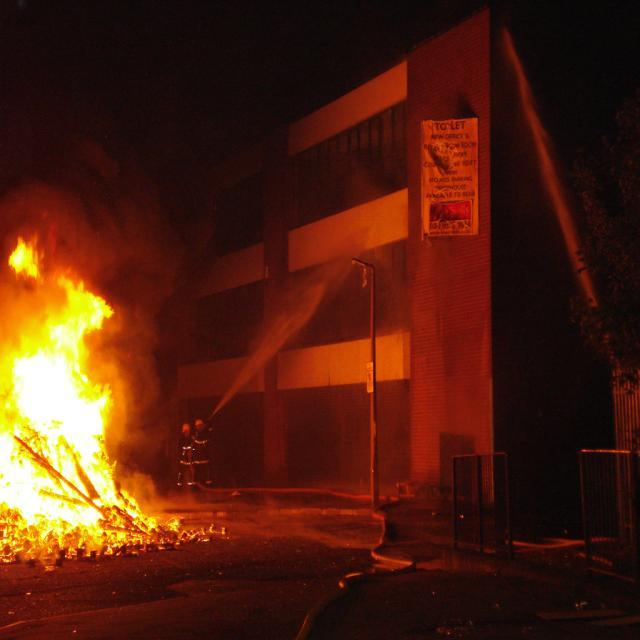Fire: (0, 208, 181, 555)
